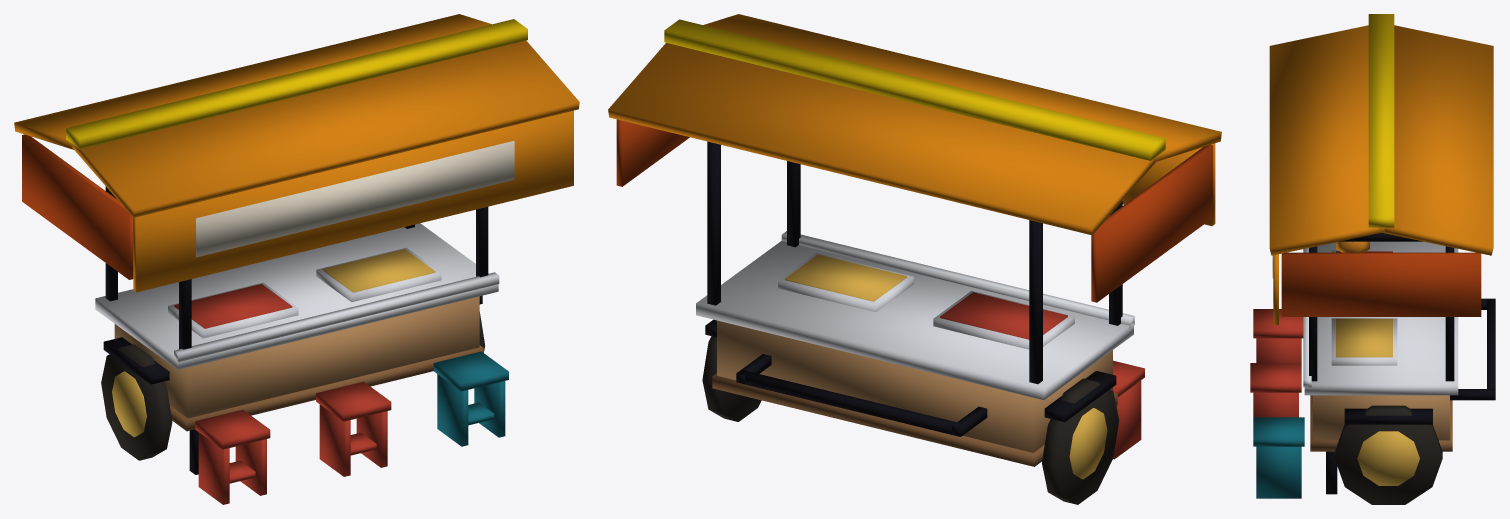
File: pojangmacha_cart.glb
The picture shows the model from 3 angles, left to right: view 1: azimuth 30°, elevation 25°; view 2: azimuth 150°, elevation 25°; view 3: azimuth 270°, elevation 25°; orthographic projection. The views are drawn at different scales.
Visible parts, largest first — view 1: pojangmacha_cart; view 2: pojangmacha_cart; view 3: pojangmacha_cart.
Boxes of the visible parts, box(x1,y1,x2,y2) form: pojangmacha_cart: box(14, 14, 579, 504); pojangmacha_cart: box(608, 14, 1221, 504); pojangmacha_cart: box(1250, 14, 1495, 504).
Size of the model in its own units: 3.38 by 2.47 by 1.72.
